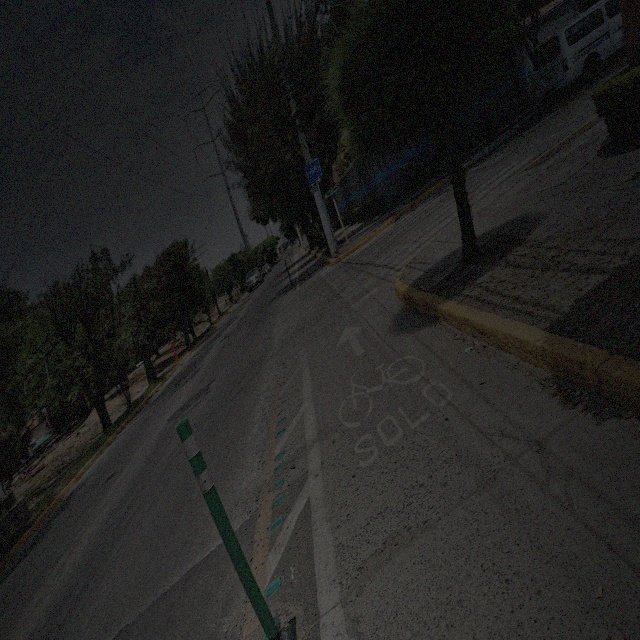pothole: (349, 514, 427, 596), (183, 388, 206, 416), (105, 468, 116, 484)
